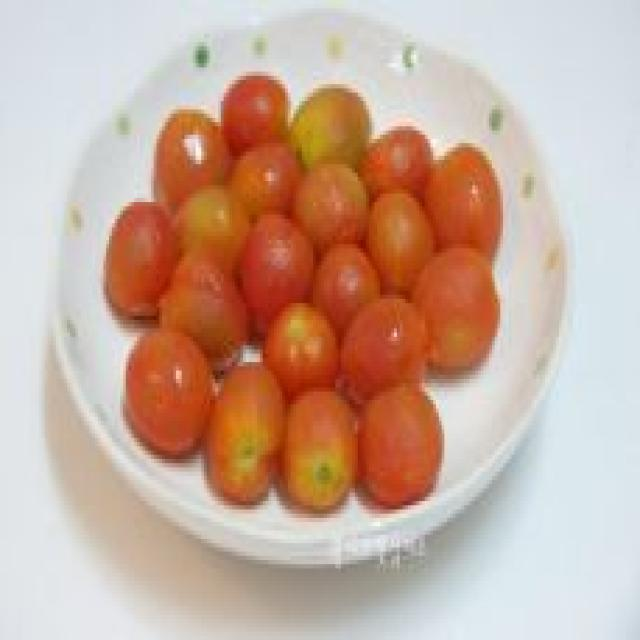level 4: (163, 158, 258, 291), (289, 64, 385, 172)
level 5: (198, 344, 281, 526), (277, 359, 361, 525), (403, 245, 500, 382), (157, 251, 256, 375), (364, 187, 440, 302), (292, 153, 382, 241), (230, 136, 310, 233), (262, 303, 341, 399), (150, 112, 224, 201)
level 6: (117, 313, 217, 471), (98, 199, 184, 339), (357, 390, 449, 514), (421, 140, 512, 262), (245, 220, 321, 334), (312, 236, 389, 330), (340, 313, 436, 386), (363, 126, 437, 207), (218, 61, 289, 140)
